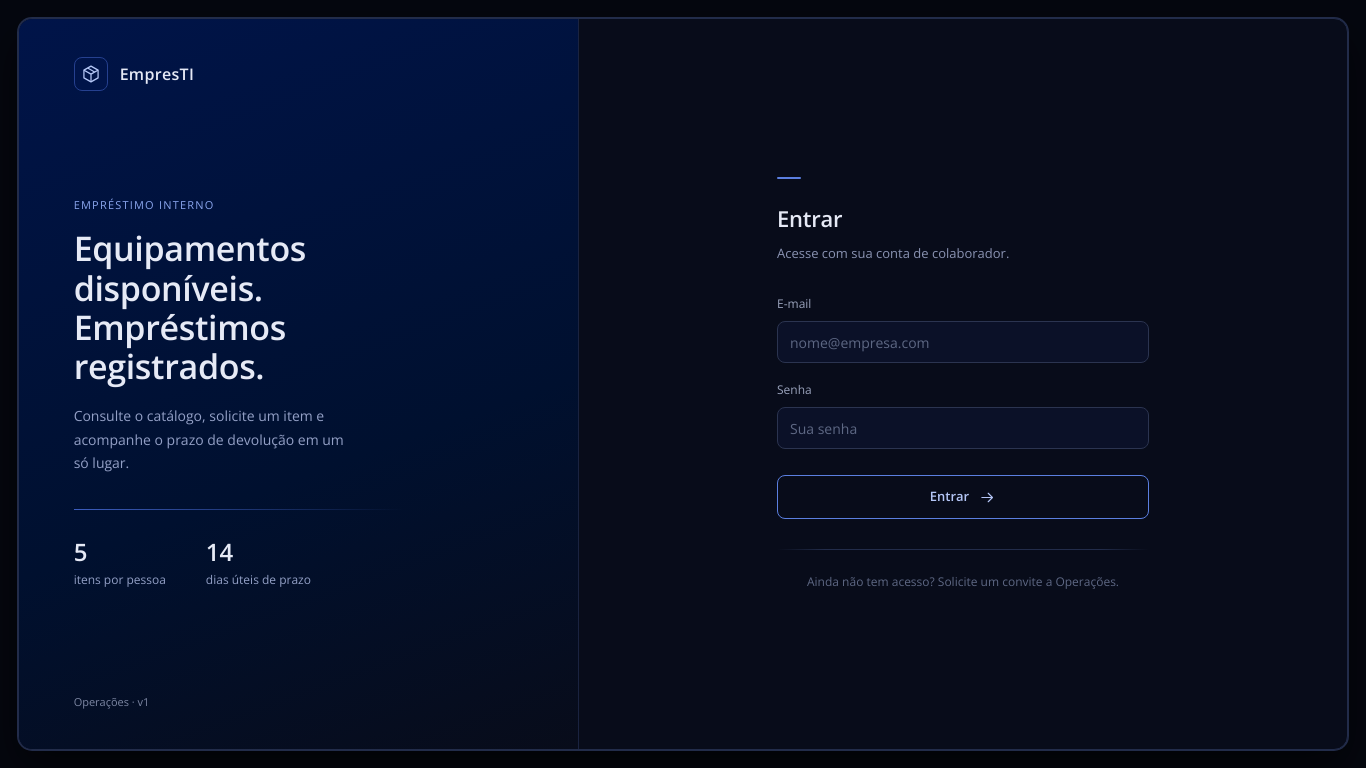
Formulário de login › test_ca_02_ca_06_recusa_mostra_mensagem_generica_e_permite_nova_tentativa
Later steps or results of the test are not shown.
Type "colaborador@example.test" into the field labelled "E-mail" at (963, 342), box [777,321,1149,363]
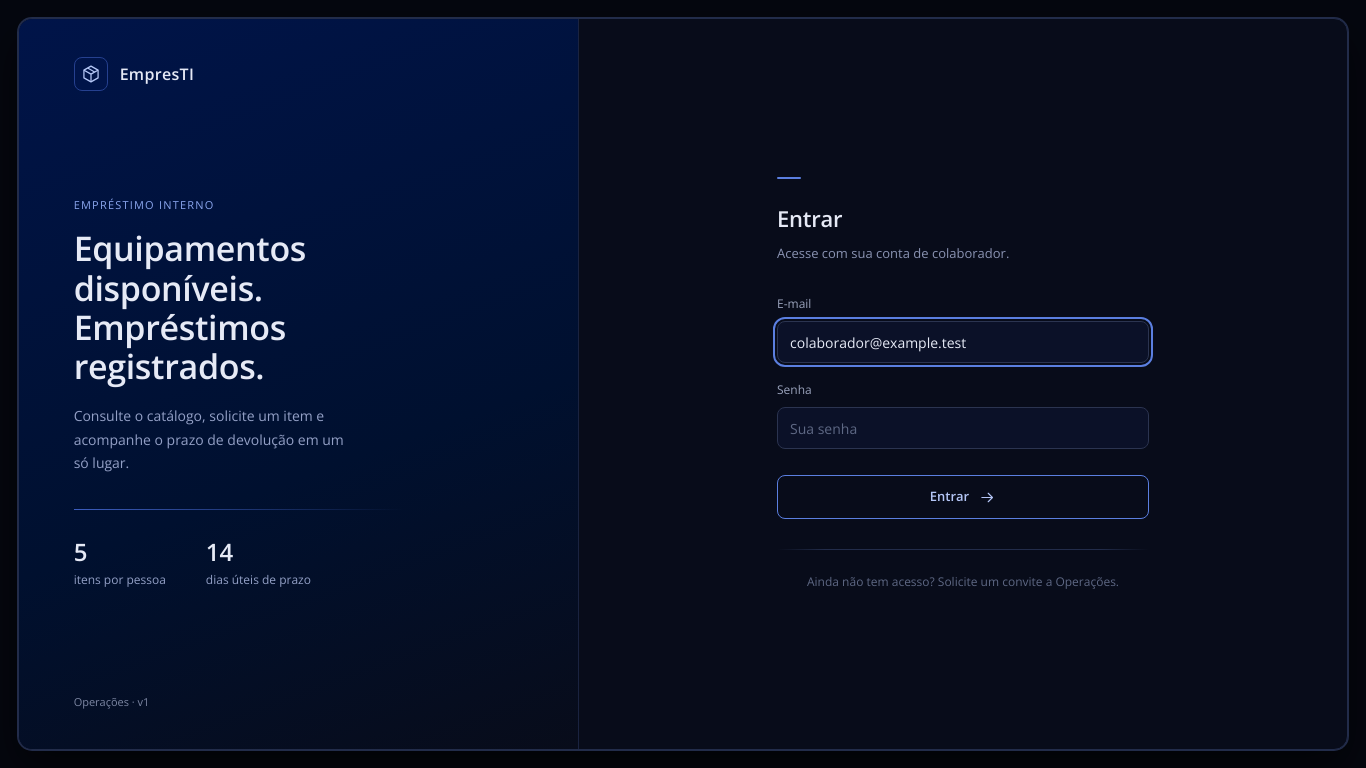
Type "Senha-local-da-fixture-42" into the password field labelled "Senha" at (963, 428), box [777,407,1149,449]
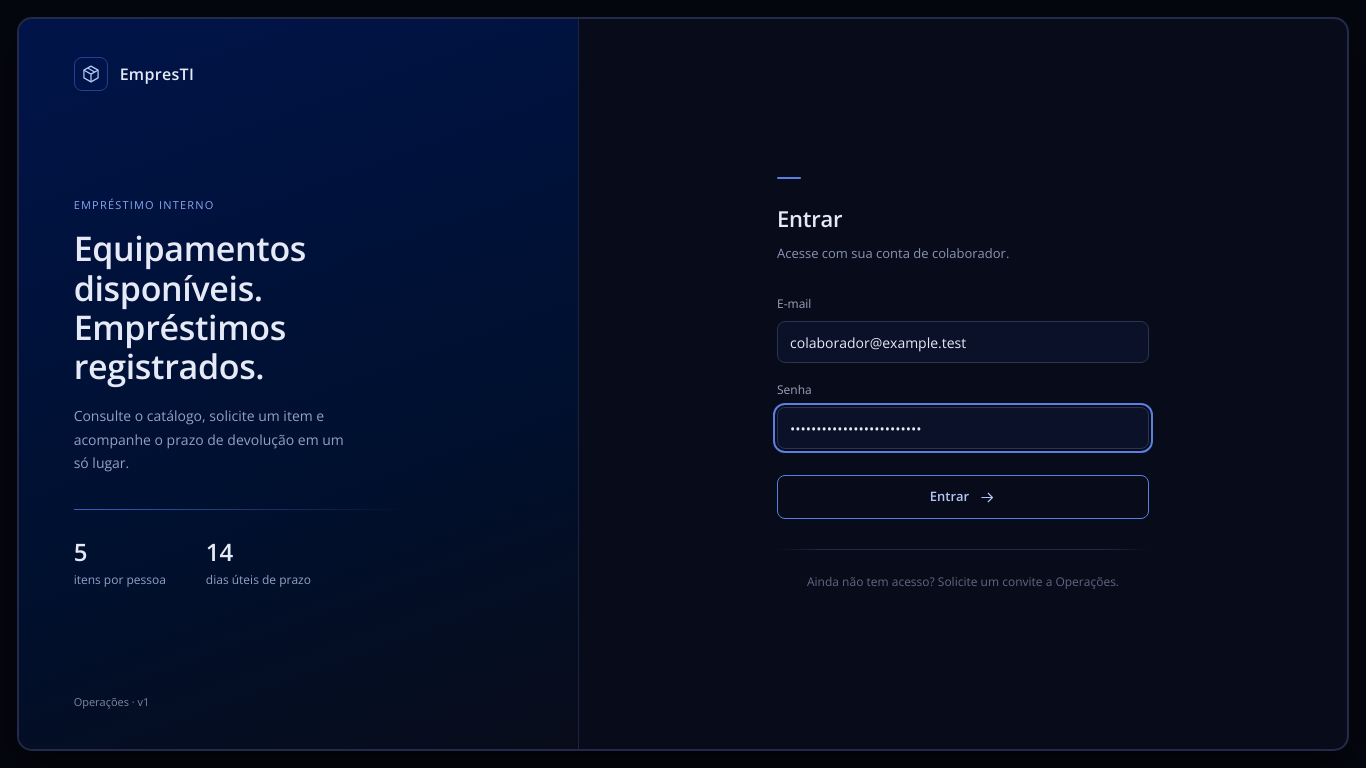
Click the button "Entrar" at (963, 497), box [777,475,1149,519]
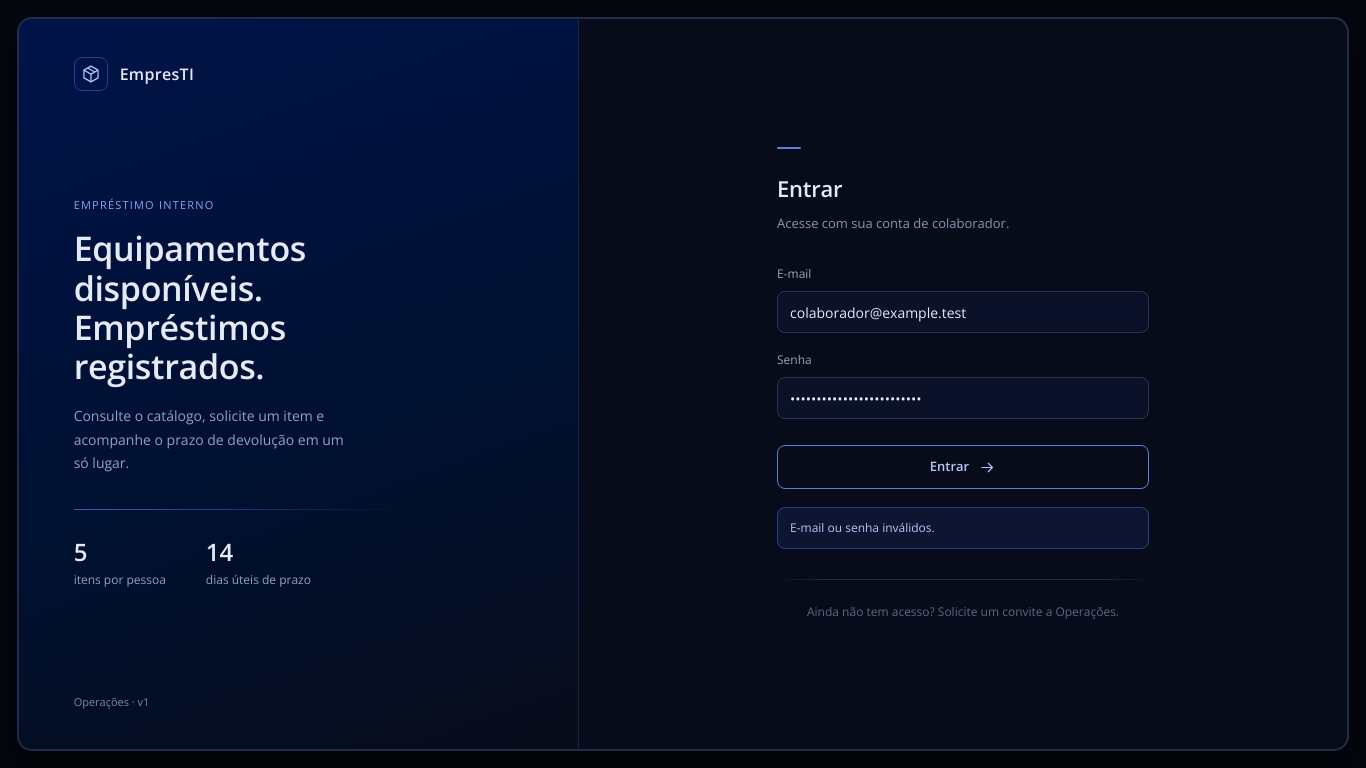
Expected: the message reads "E-mail ou senha inválidos.", [790,519,935,536]
